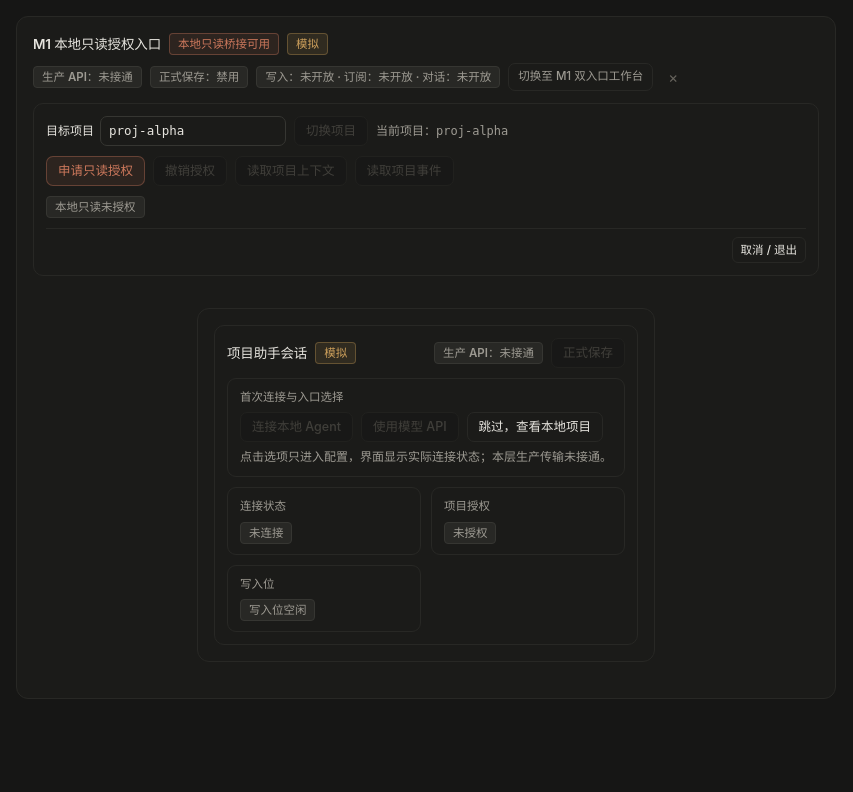
Test: ProjectAgentM1ReadonlyEntry (模拟 / synthetic: true) › 取消/拒绝返回 AUTH_REQUIRED 时不产生假成功，且取消新请求不破坏已有有效授权
Click the button "申请只读授权" at (96, 171), box [46, 156, 145, 186]
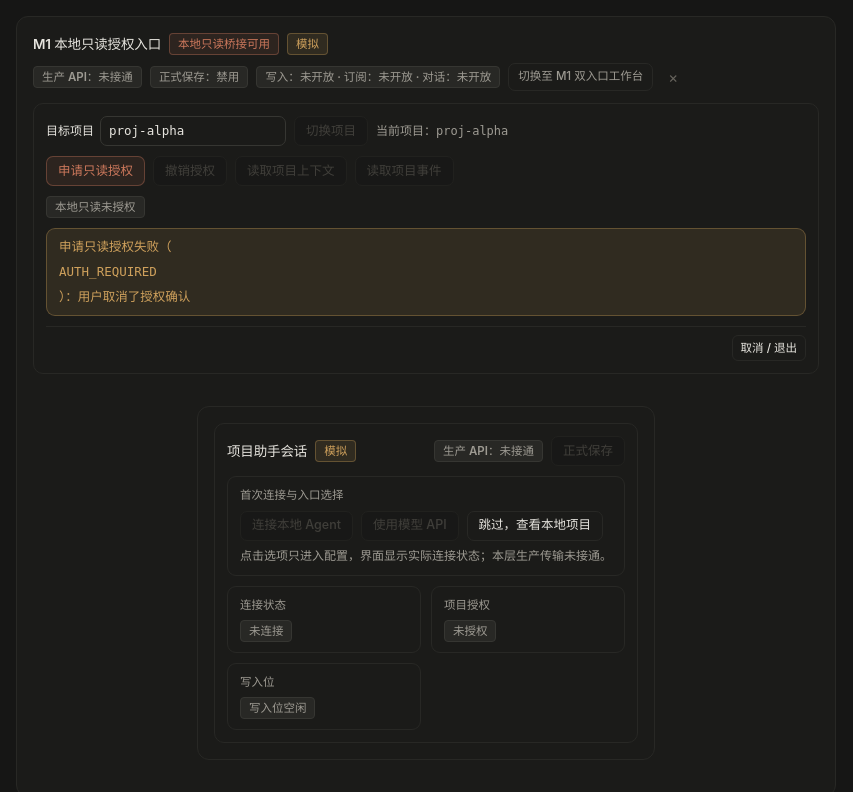
Expected: the text "本地只读未授权" is shown, [46, 196, 144, 218]
Now the message shows "AUTH_REQUIRED", box [59, 264, 157, 279]
Now the message shows "用户取消了授权确认", box [78, 289, 190, 304]
Click the button "申请只读授权" at (96, 171), box [46, 156, 145, 186]
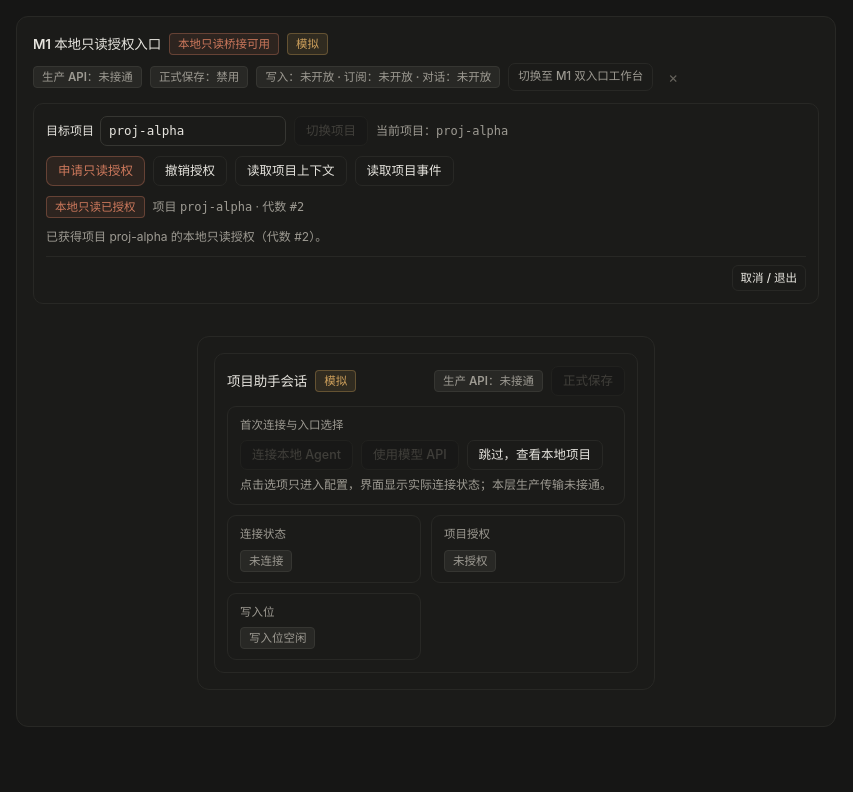
Now the text "本地只读已授权" is shown, box [46, 196, 144, 218]
Now the button "读取项目上下文" is enabled, box [235, 156, 346, 186]
Click the button "申请只读授权" at (96, 171), box [46, 156, 145, 186]
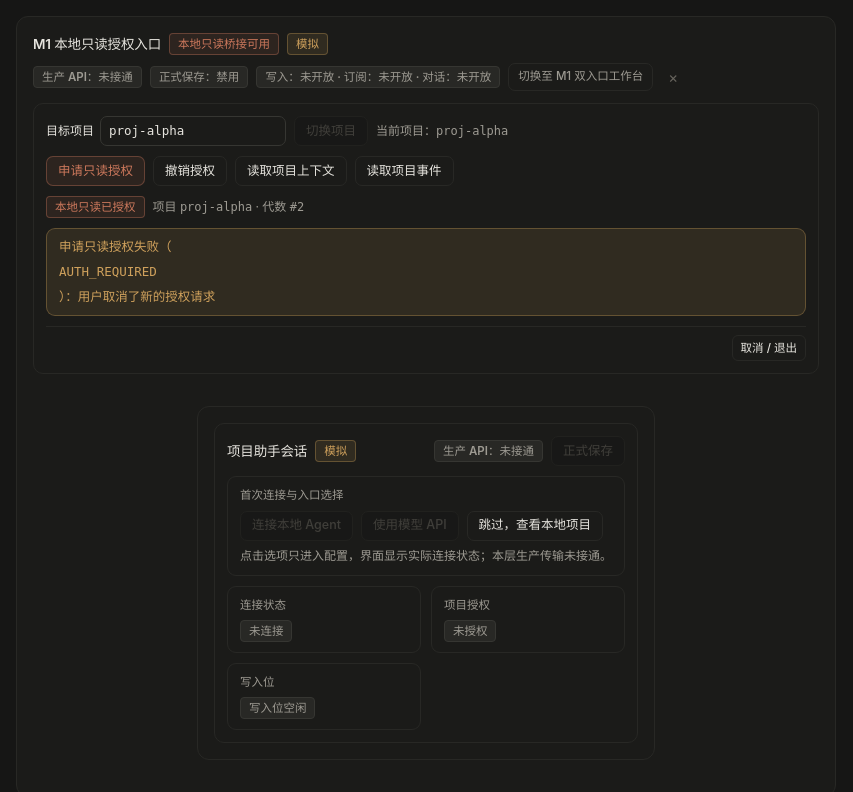
Now the text "本地只读已授权" is shown, box [46, 196, 144, 218]
Now the message shows "AUTH_REQUIRED", box [59, 264, 157, 279]
Now the message shows "用户取消了新的授权请求", box [78, 289, 215, 304]
# Reading context still succeeds using the existing valid authorizationRef & generation
Click the button "读取项目上下文" at (291, 171), box [235, 156, 346, 186]
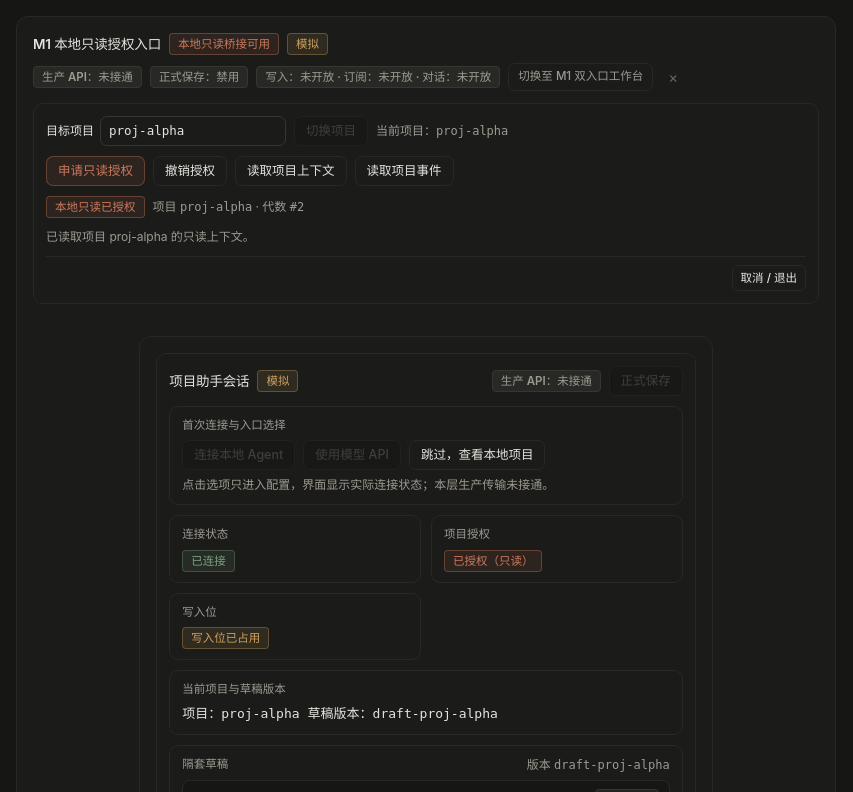
Now the text "draft-proj-alpha" next to "草稿版本：" is shown, box [373, 706, 498, 721]
